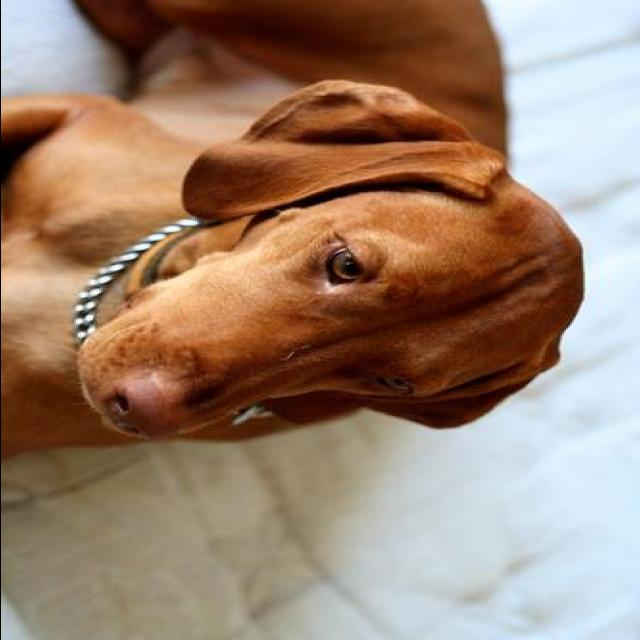vizsla: (2, 2, 590, 460)
